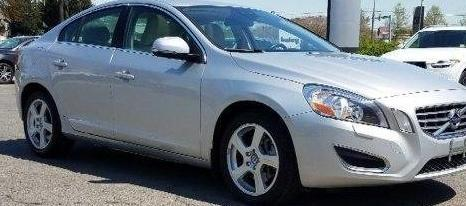Cars: (18, 2, 466, 205)
